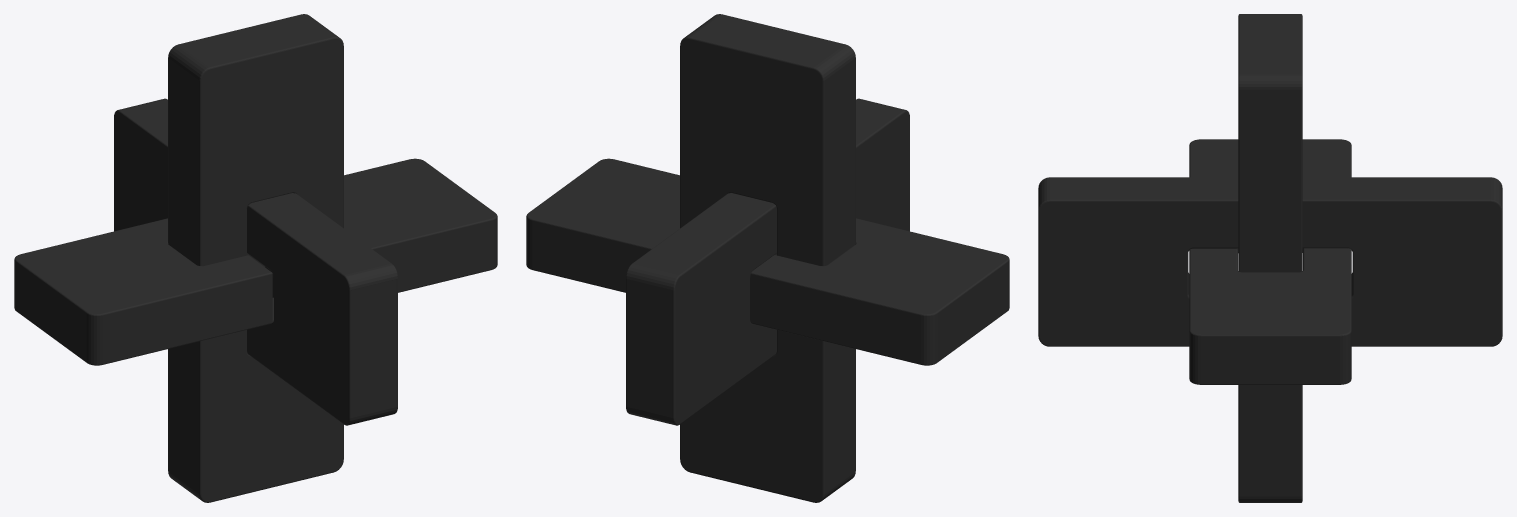
The model's file is puzzle-3pc-black.glb.
The picture shows the model from 3 angles, left to right: view 1: azimuth 30°, elevation 25°; view 2: azimuth 150°, elevation 25°; view 3: azimuth 270°, elevation 25°; orthographic projection.
Parts seen in each view (by area): view 1: Cube; view 2: Cube; view 3: Cube.
Part boxes in pixels (left/top/right/bottom): Cube: left=14, top=14, right=497, bottom=502; Cube: left=526, top=14, right=1009, bottom=502; Cube: left=1038, top=14, right=1502, bottom=502.
Bounding box in the file's own units: 3.35 × 3.4 × 3.35.
1 material, 1 textured.
